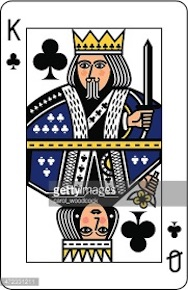KingOfClubs: (1, 1, 187, 146)
QueenOfClubs: (1, 147, 187, 288)
